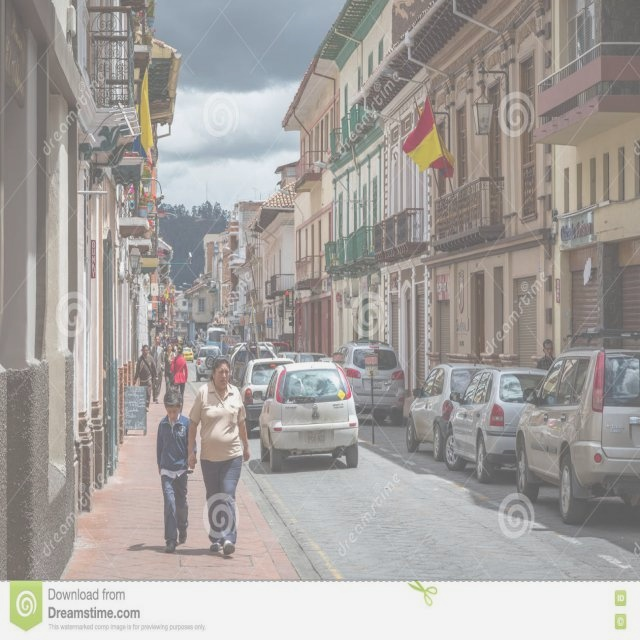pessoa: (187, 352, 251, 556), (155, 386, 198, 554), (132, 343, 158, 412), (168, 344, 188, 412), (146, 334, 165, 404), (535, 339, 556, 371), (164, 342, 176, 394), (157, 331, 190, 346), (157, 346, 167, 372), (244, 326, 250, 344), (193, 328, 199, 340), (172, 343, 177, 351), (146, 346, 150, 356)
